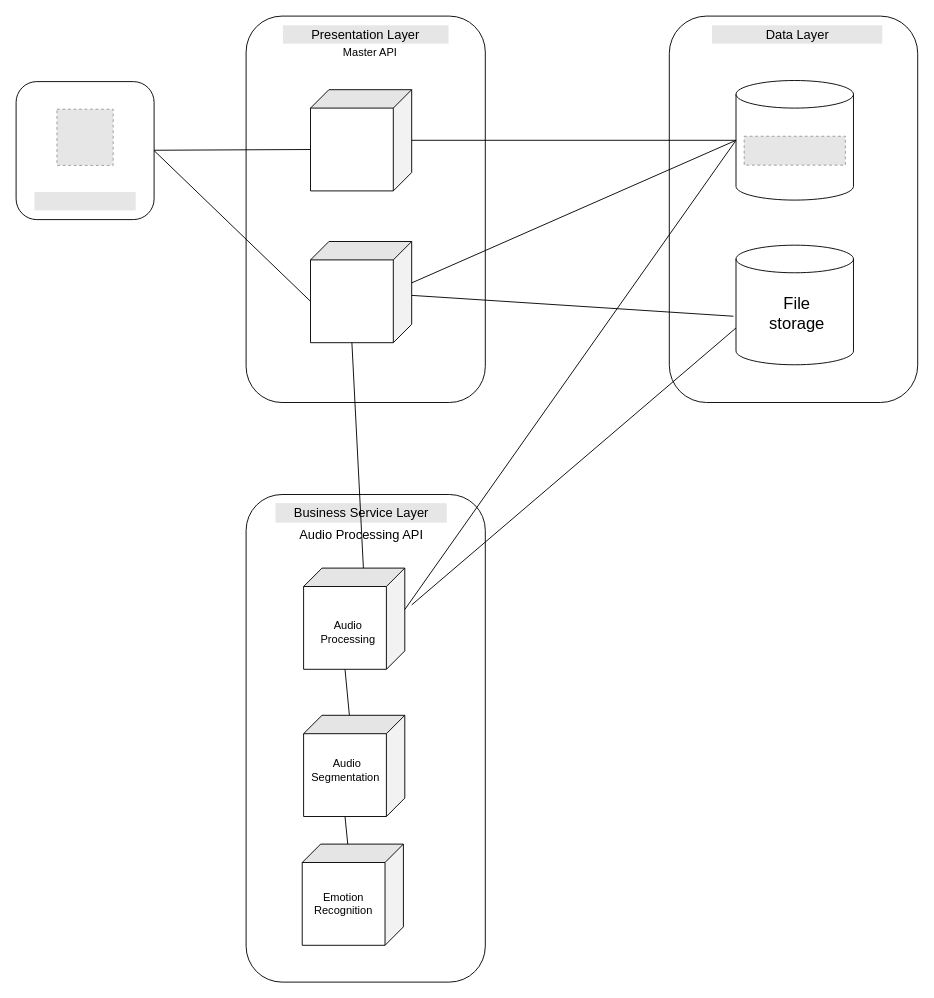
The diagram is 934 pixels wide and 998 high, and some of its shapes have lost their labels. Grey dashed boxes stand in for pictures. Each missing label, with the centre of its shape:
Authentification: the point at 361,140
Client Layer: the point at 84,201
Serving files: the point at 361,292
